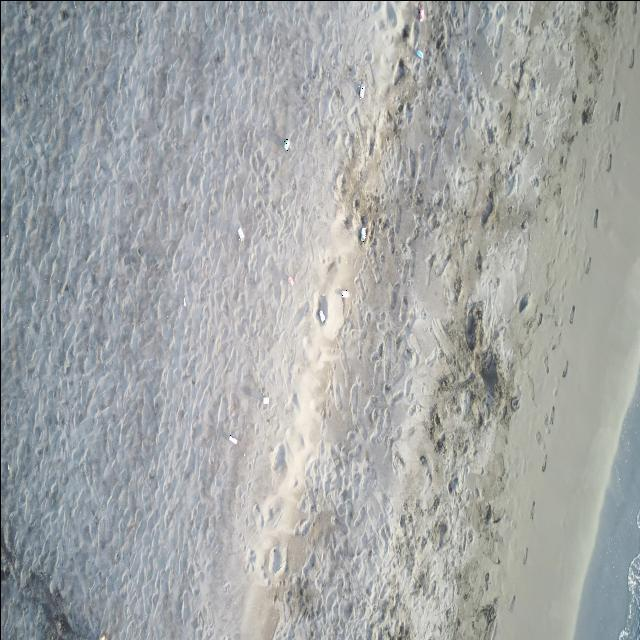Garbage: (359, 224, 366, 241), (416, 4, 423, 20), (236, 227, 243, 240), (228, 433, 236, 444), (318, 309, 324, 323), (340, 288, 348, 298), (359, 83, 364, 98), (415, 48, 423, 57), (287, 275, 293, 286), (99, 632, 107, 639), (283, 139, 288, 150), (263, 395, 268, 404), (183, 296, 186, 306)
